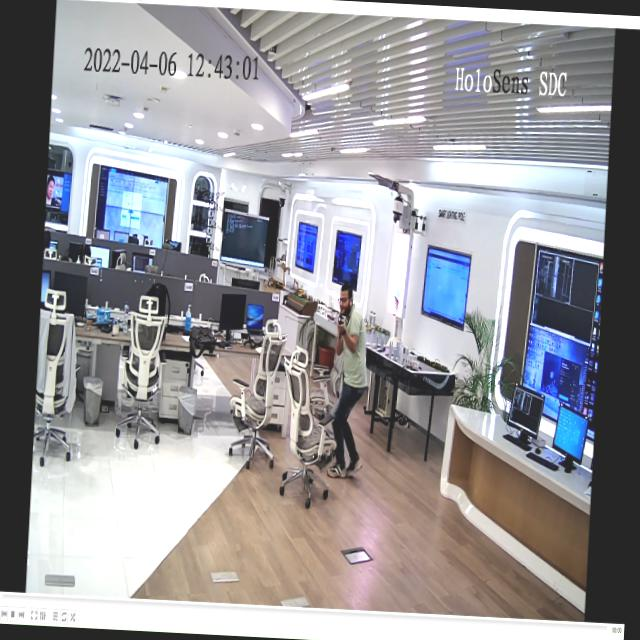long weapon: (335, 308, 346, 336)
